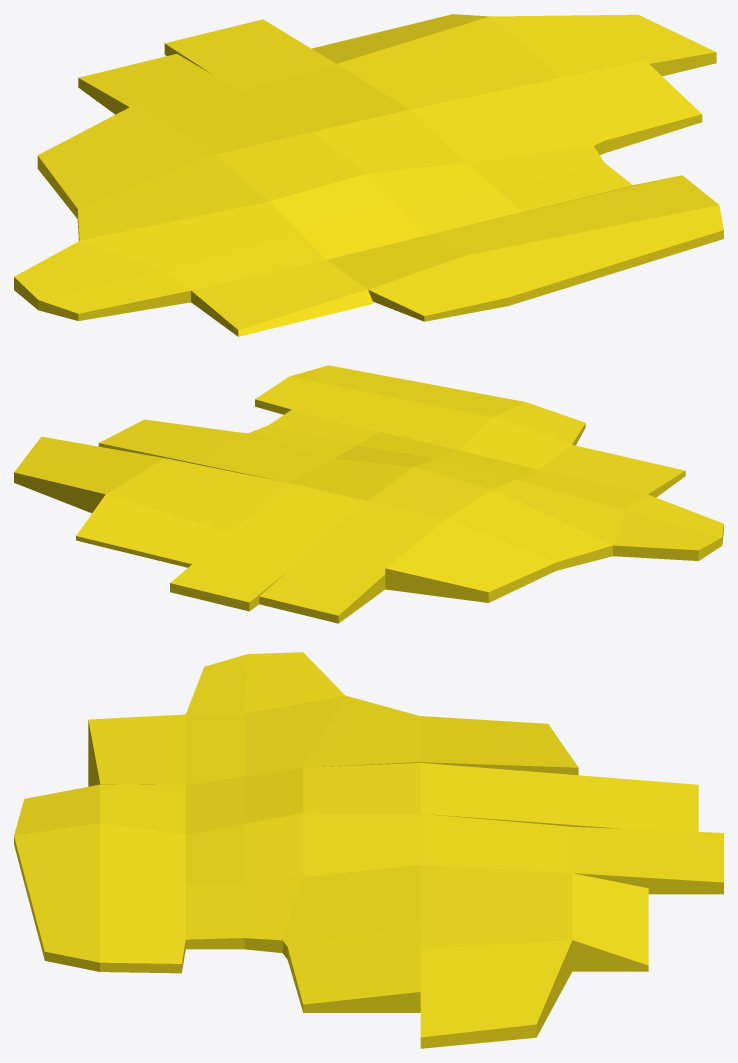
The model's file is oil.fbx.
3 renders of one model, top to bottom at view 1: azimuth 30°, elevation 25°; view 2: azimuth 150°, elevation 25°; view 3: azimuth 270°, elevation 25°, orthographic. The views are drawn at different scales.
Parts seen in each view (by area): view 1: oil; view 2: oil; view 3: oil.
Boxes of the visible parts, <box> form: oil: <box>14,14,723,336</box>; oil: <box>14,365,723,623</box>; oil: <box>14,652,723,1048</box>.
Size of the model in its own units: 774 by 30.78 by 604.
